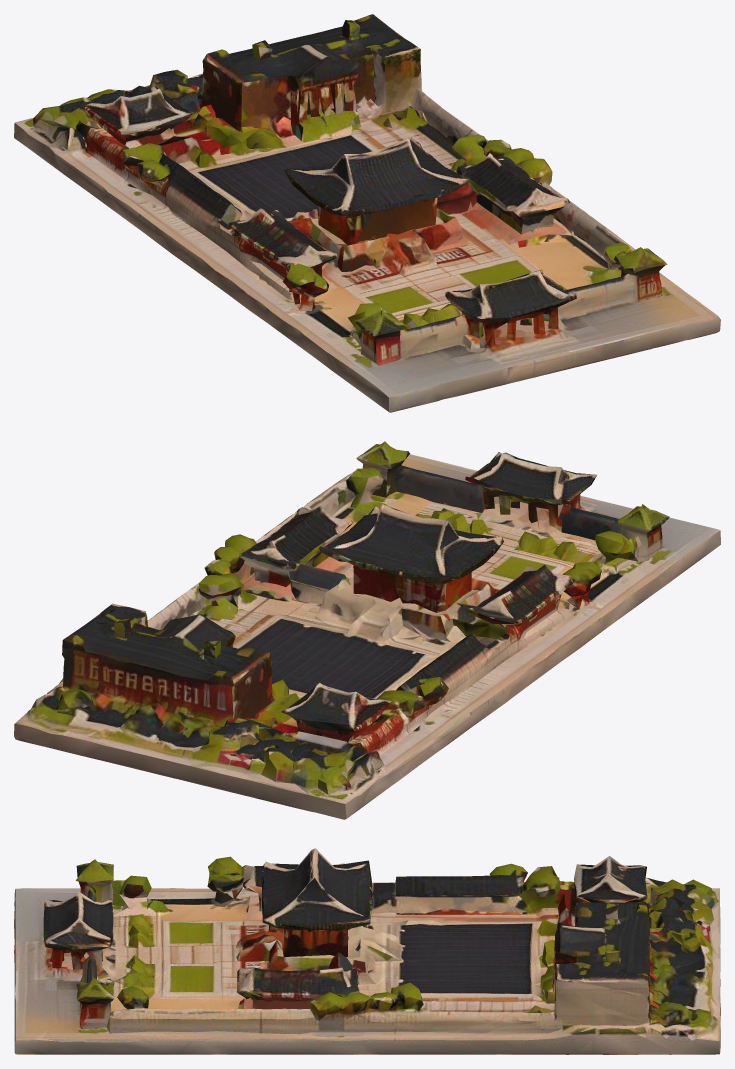
File: deoksugung.glb
3 views of the same model, one above another, from view 1: azimuth 30°, elevation 25°; view 2: azimuth 150°, elevation 25°; view 3: azimuth 270°, elevation 25° (orthographic). The views are drawn at different scales.
Parts seen in each view (by area): view 1: logan-textured.obj; view 2: logan-textured.obj; view 3: logan-textured.obj.
Part boxes in pixels (x1,y1,x2,y2): logan-textured.obj: (14,14,720,412); logan-textured.obj: (14,441,720,819); logan-textured.obj: (14,848,720,1054).
Bounding box in the file's own units: 0.5115 × 0.1689 × 1.
1 material, 1 textured.
